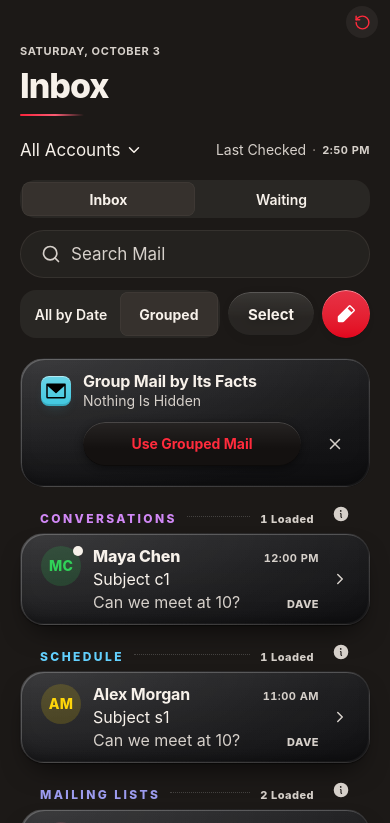
it: select mode (spec 11, V04) › Cancel and the count head the list, circles lead the rows, and the tray offers four verbs with Delete's helper
The width and height of the screenshot is (390, 823).
Click the button "Select" at (271, 314), box [228, 292, 314, 336]
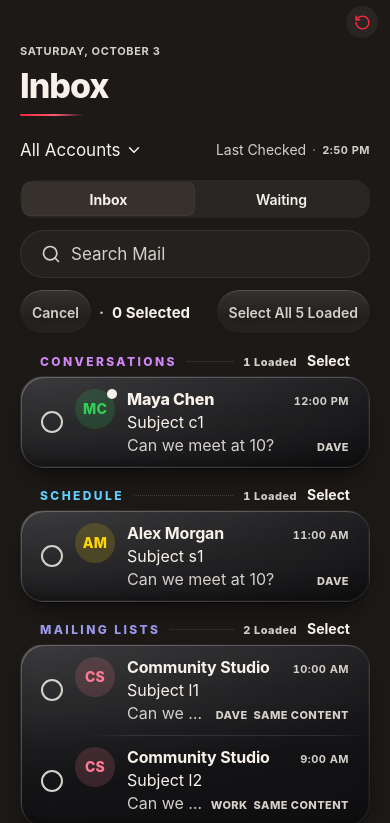
Result: the button "Cancel" is shown at [20, 290, 91, 334]
Result: the text with class "email-selcount" reads "0 Selected" at [112, 303, 190, 322]
Result: the number of elements with class "sel-box" is 5
# A row's tap is its circle, not the message.
Click the button with class "erow" that starts with "Maya Chen" at (195, 422), box [21, 377, 369, 468]
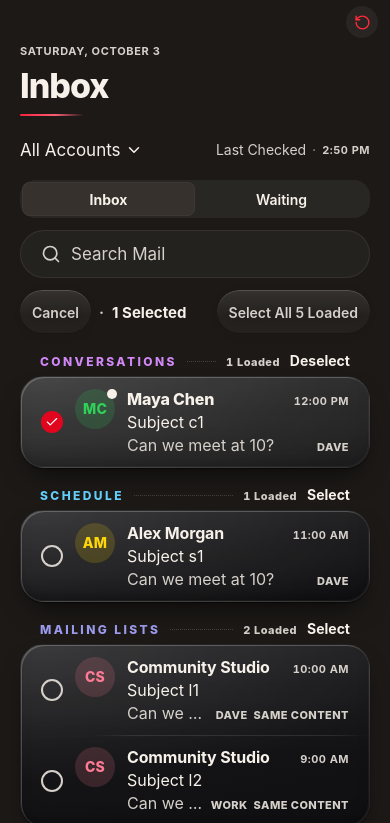
Result: the button with class "erow" is pressed at [21, 377, 369, 468]
Click the button "Cancel" at (56, 312), box [20, 290, 91, 334]
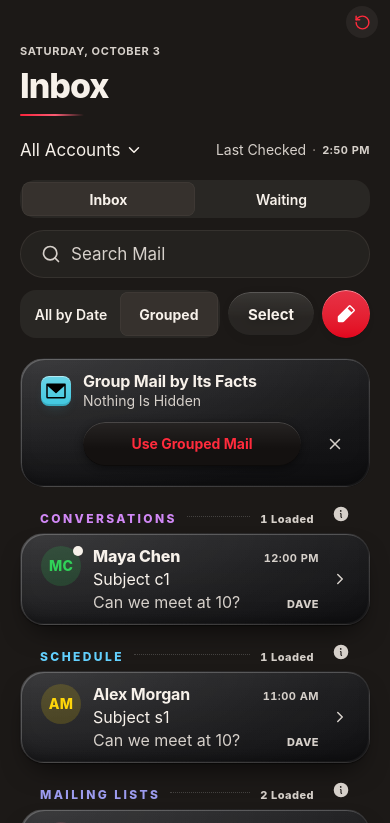
Result: the element with class "sel-box" is gone
